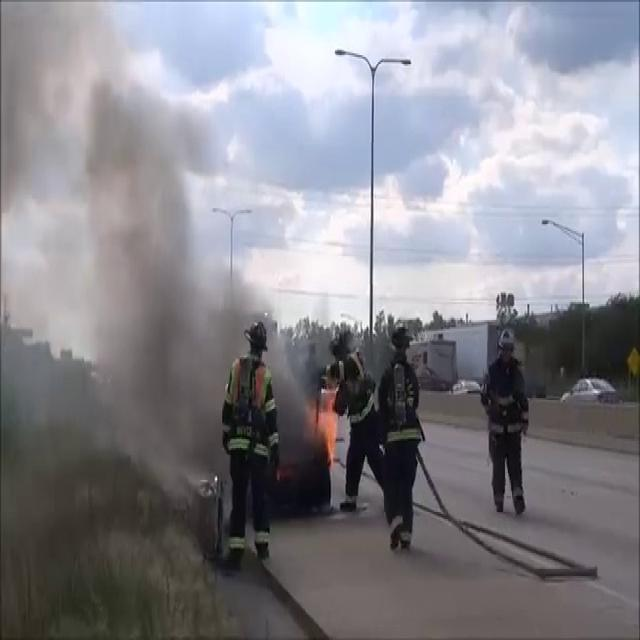Fire: (316, 390, 341, 470)
Smoke: (1, 4, 228, 487)
